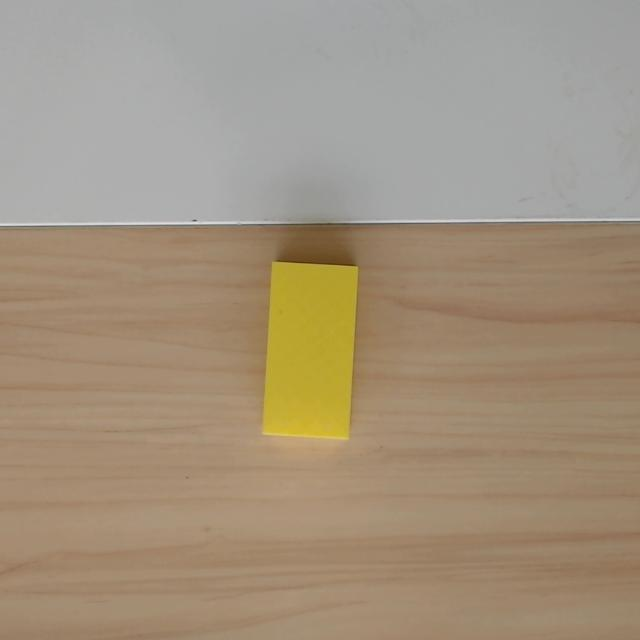Balok-Kuning-1005025: (261, 260, 360, 440)
